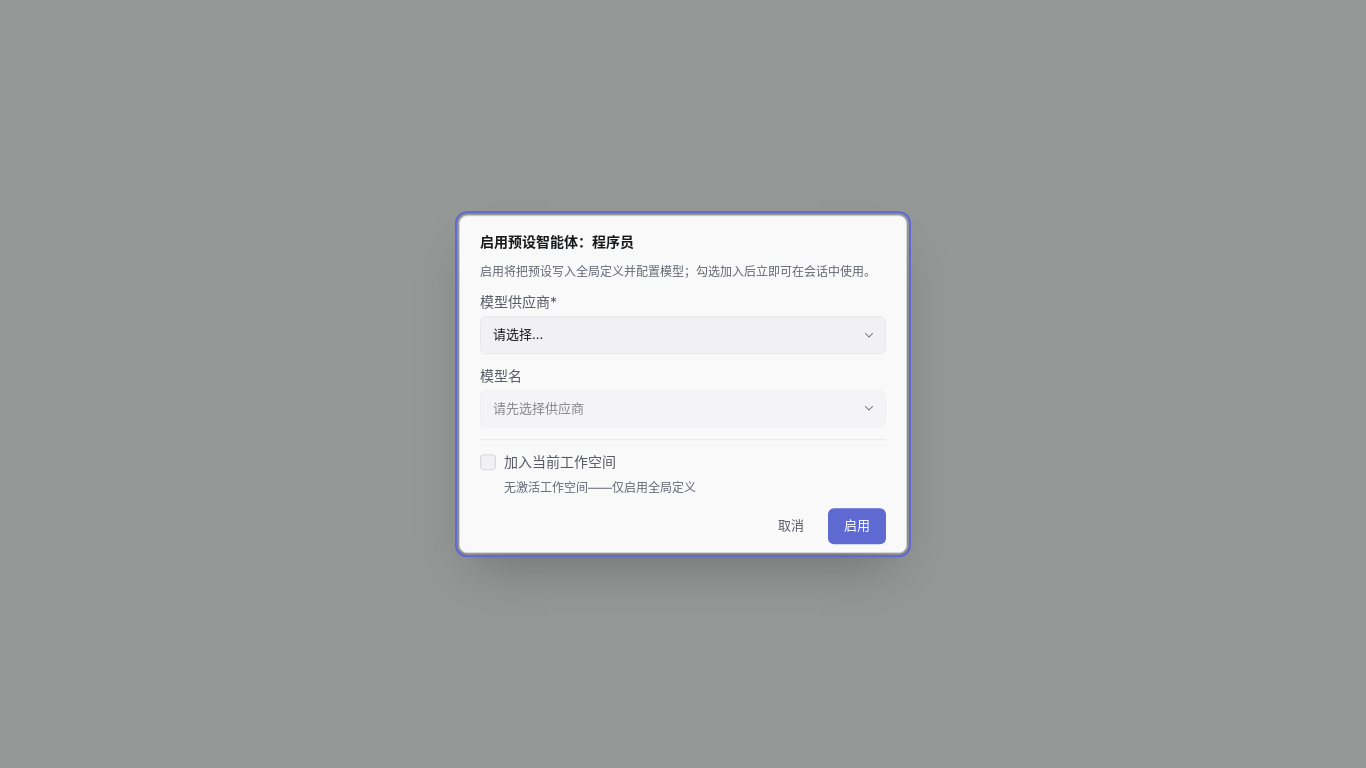
Test: EnablePresetDialog — 启用模式 › 模型未选：提交显示错误，不调 enablePreset
Click the button "启用".
click(857, 526)  # box [828,508,886,544]
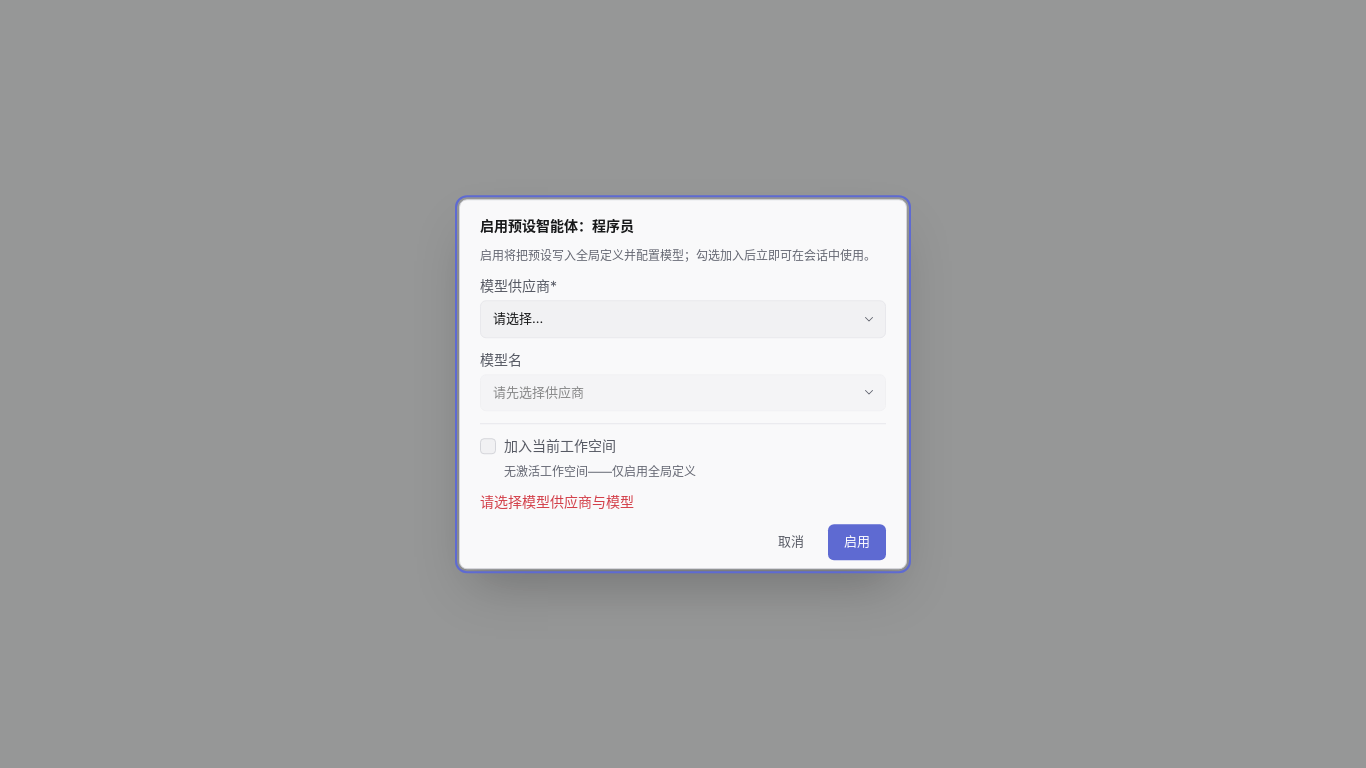
expect the text "请选择模型供应商与模型" is shown: met, box [480,493,634,510]
